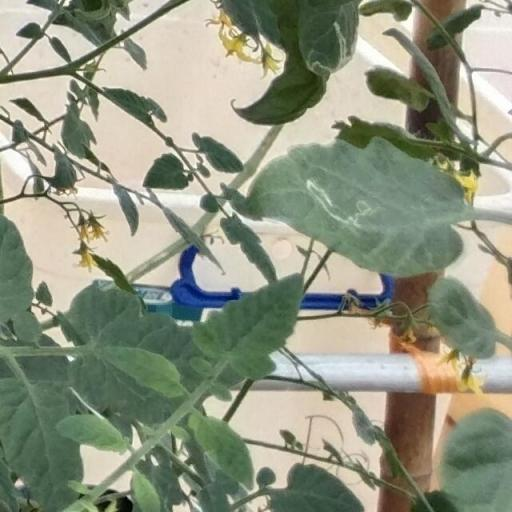Healthy: (191, 269, 306, 386), (0, 372, 85, 512), (427, 274, 497, 358), (188, 411, 256, 490), (270, 461, 366, 512), (102, 345, 184, 400), (54, 413, 130, 455), (141, 152, 190, 192)
Leaf_Miner: (243, 134, 468, 282), (300, 0, 364, 83)
